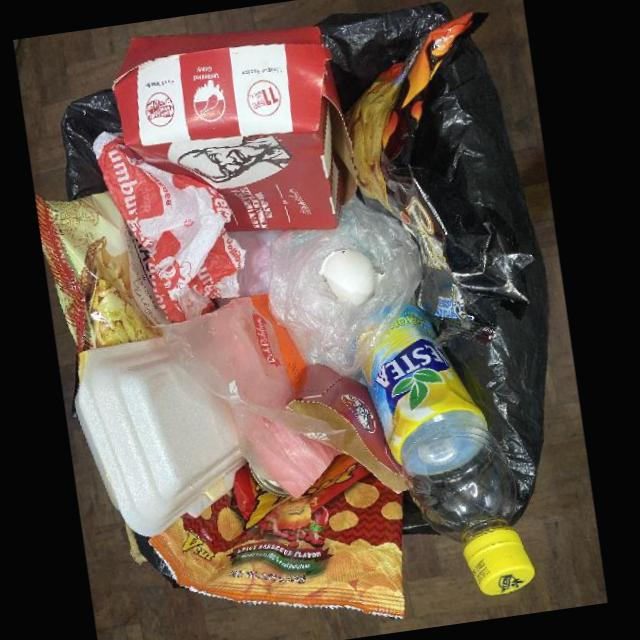bao_bi_thuc_pham: (349, 11, 487, 323), (146, 454, 406, 616), (162, 289, 349, 501), (91, 131, 248, 324), (36, 188, 172, 347)
carton: (284, 359, 415, 494)
chai_nhua_pet: (359, 302, 534, 595)
tui_ni_long: (268, 200, 420, 376)
vo_trung: (319, 248, 382, 305)
xop: (73, 336, 251, 540)
